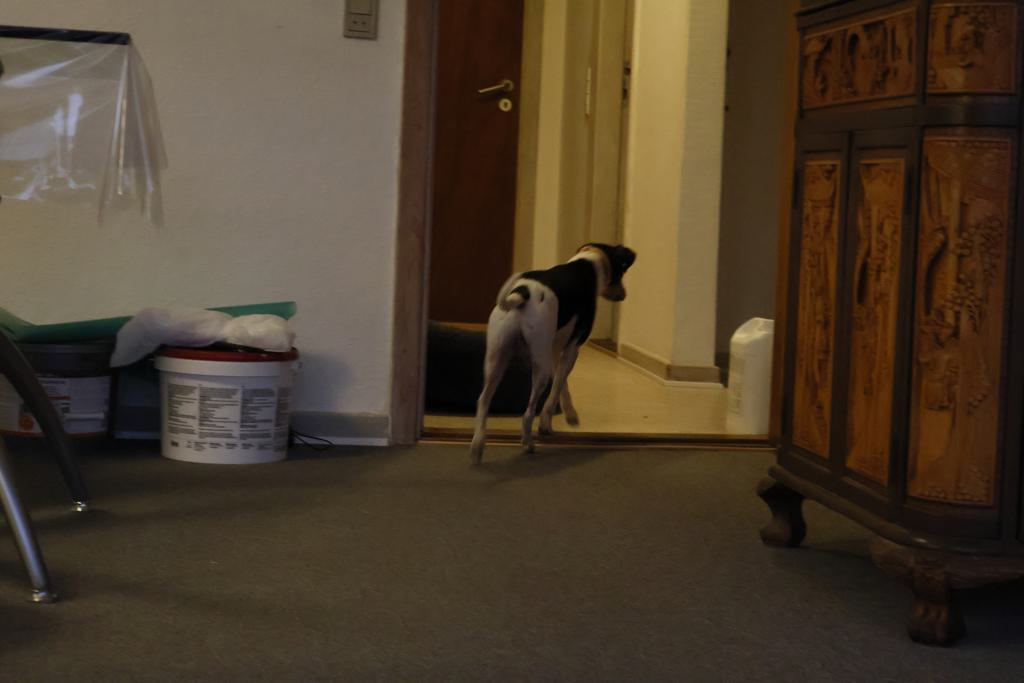Dog: (451, 226, 644, 474)
